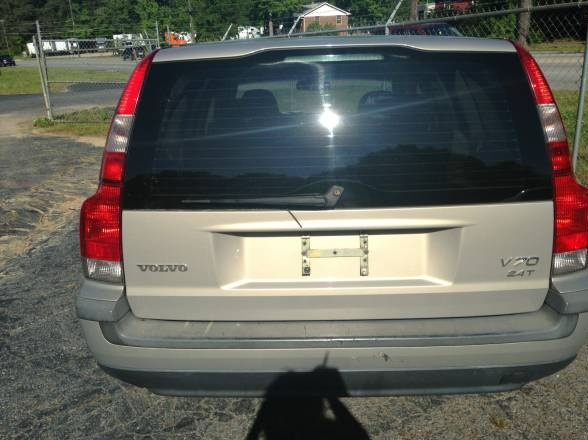volvo: (40, 20, 588, 407)
